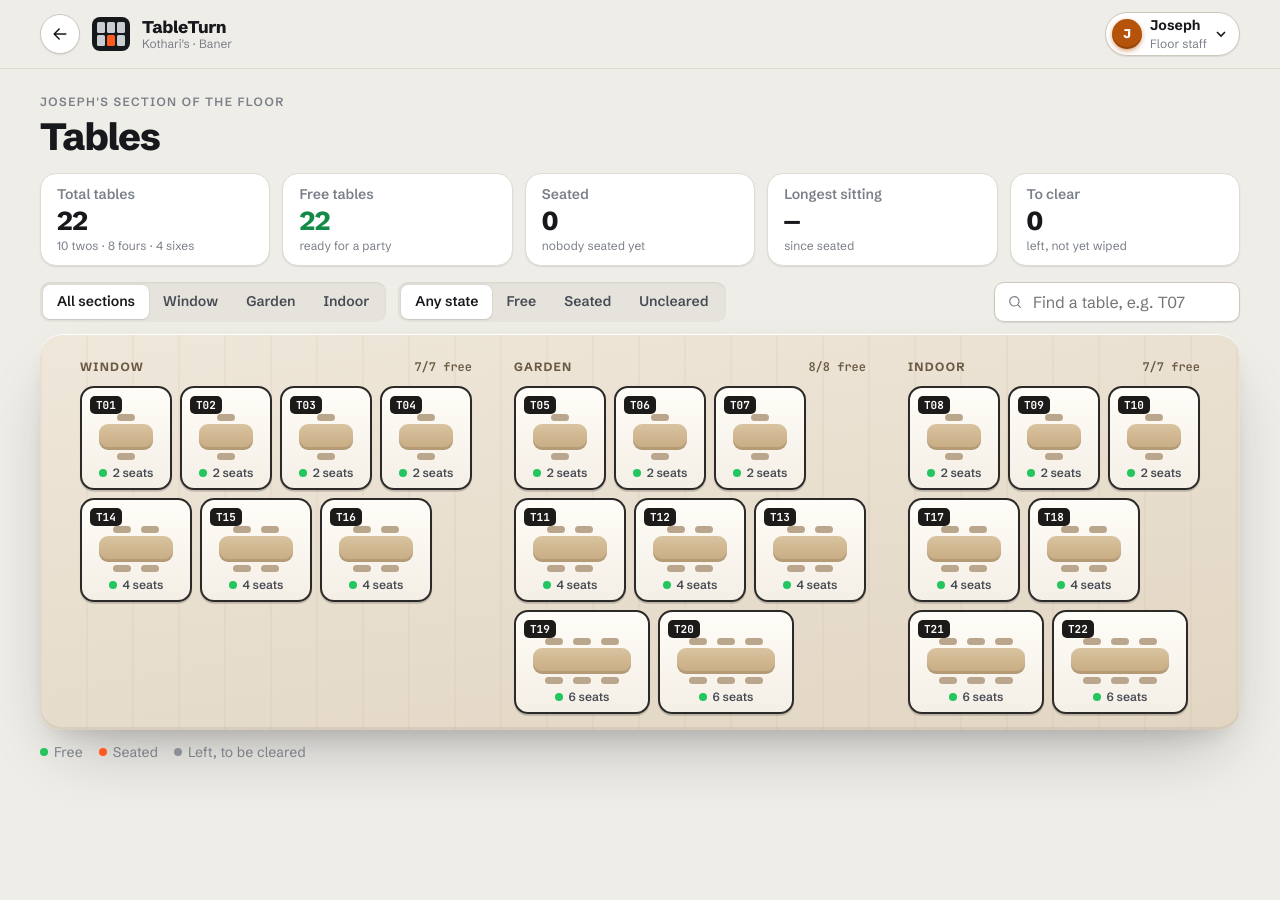
Test: F-02 · Moving between people › choosing Ravi closes the menu and opens his board at /manager/board
Click the button "J Joseph Floor staff" at {"x": 1173, "y": 34}, box x1=1105 y1=12 x2=1240 y2=56
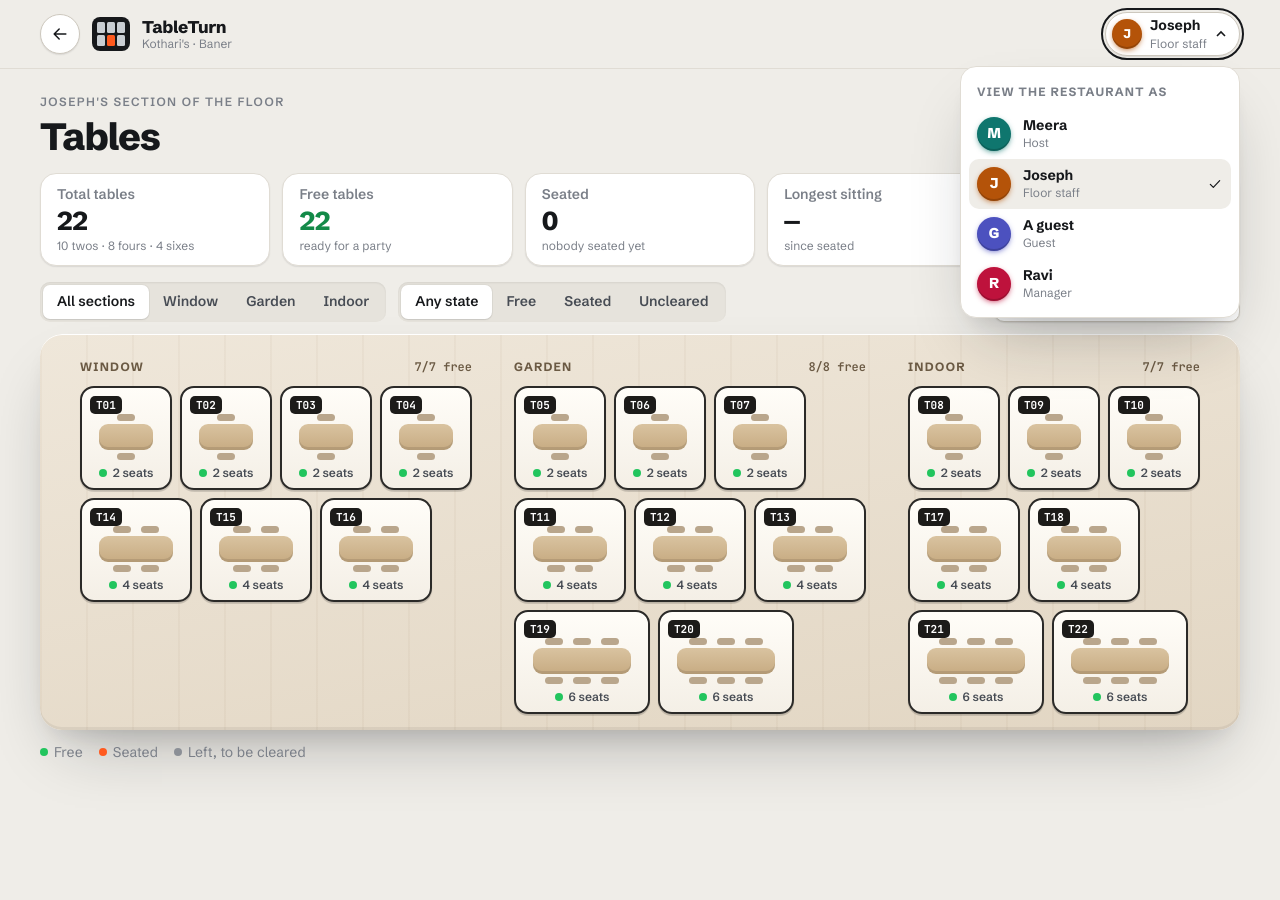
Click the menu item "R Ravi Manager" at {"x": 994, "y": 284}, box x1=969 y1=259 x2=1231 y2=309
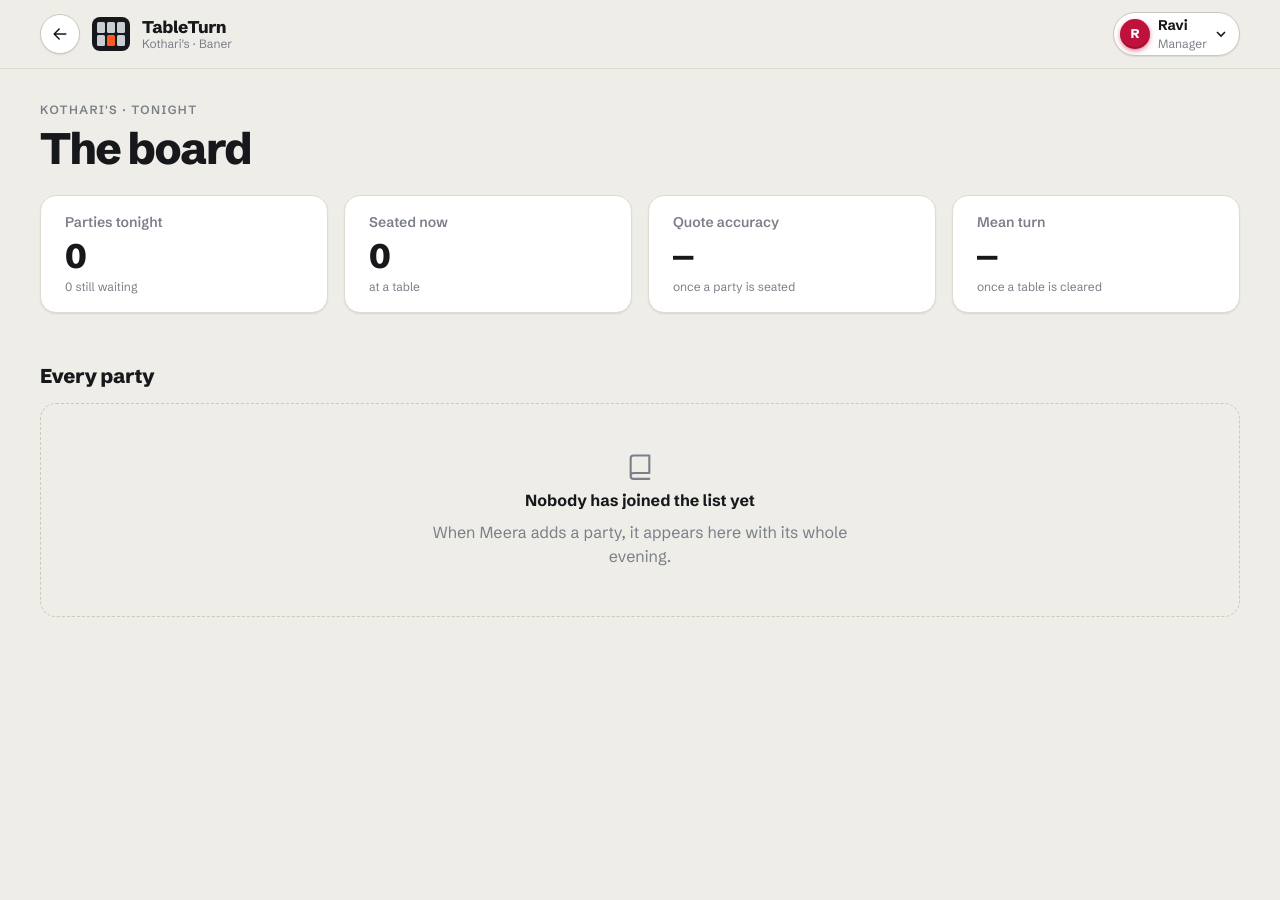
Expected: the menu is gone
Expected: the button "R Ravi Manager" is shown, x1=1113 y1=12 x2=1240 y2=56
